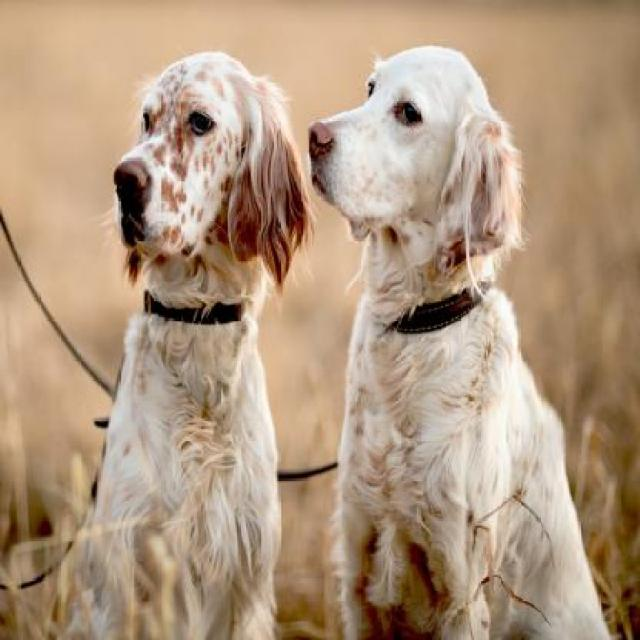animals: (300, 20, 629, 640), (88, 40, 309, 640)
